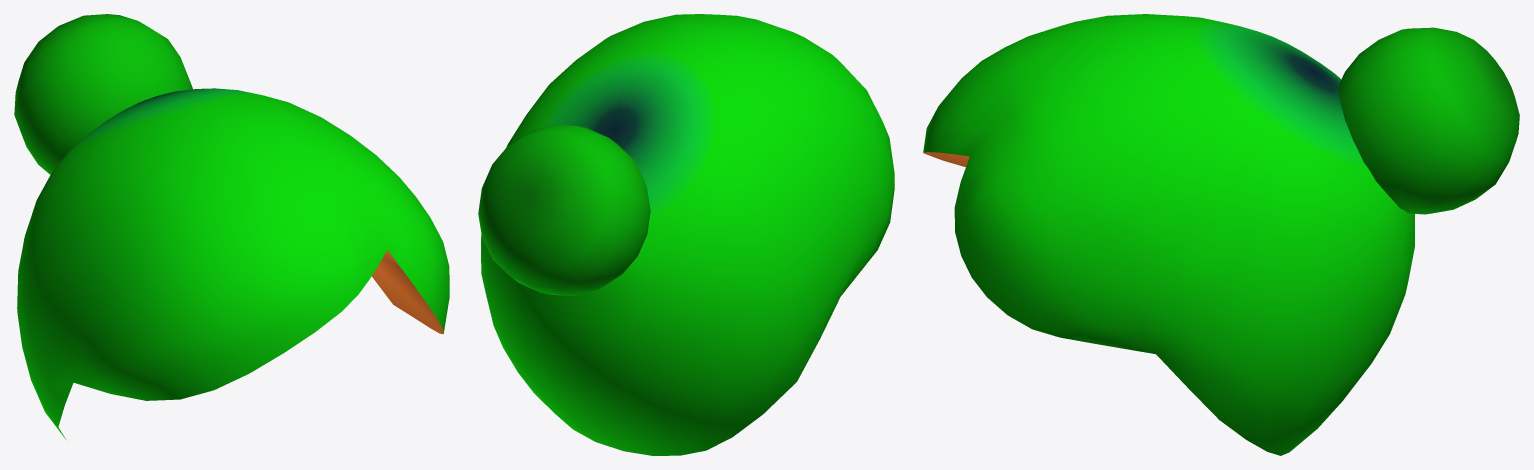
File: Hair1_103.glb
3 renders of one model, left to right at view 1: azimuth 30°, elevation 25°; view 2: azimuth 150°, elevation 25°; view 3: azimuth 270°, elevation 25°, orthographic. The views are drawn at different scales.
Bounding box in the file's own units: 55.76 × 60.06 × 81.4.
